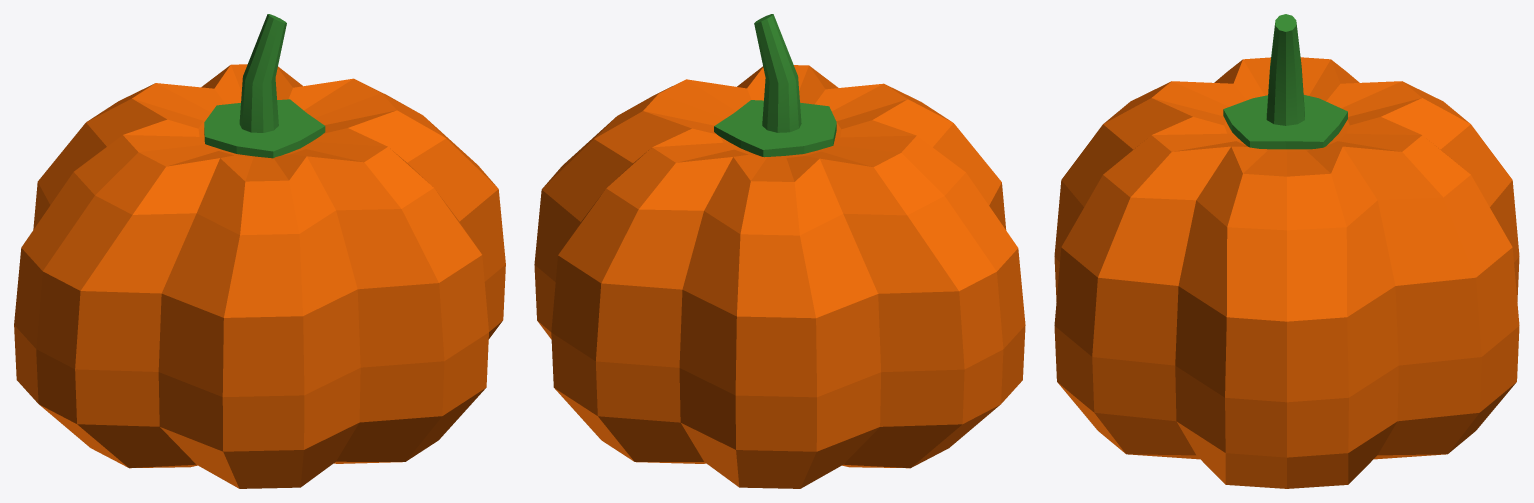
Rendered from Pumpkin.fbx.
3 views of the same model, side by side, from view 1: azimuth 30°, elevation 25°; view 2: azimuth 150°, elevation 25°; view 3: azimuth 270°, elevation 25° (orthographic).
Visible parts, largest first — view 1: Pumpkin; view 2: Pumpkin; view 3: Pumpkin.
Part boxes in pixels (x1,y1,x2,y2): Pumpkin: [14, 14, 505, 488]; Pumpkin: [534, 14, 1025, 488]; Pumpkin: [1054, 14, 1519, 488].
Size of the model in its own units: 2.41 by 2.14 by 2.13.
